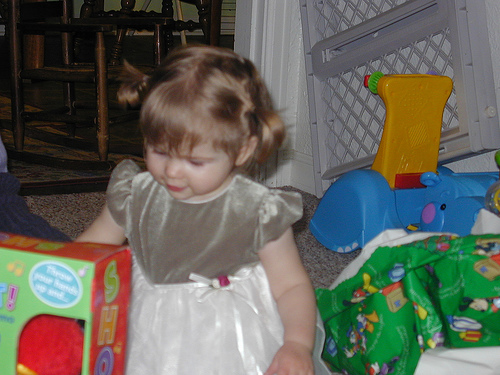without_mask: (136, 88, 250, 200)
